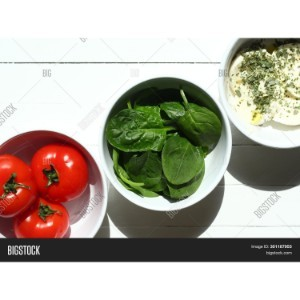spinach_brain food: (120, 112, 196, 189)
